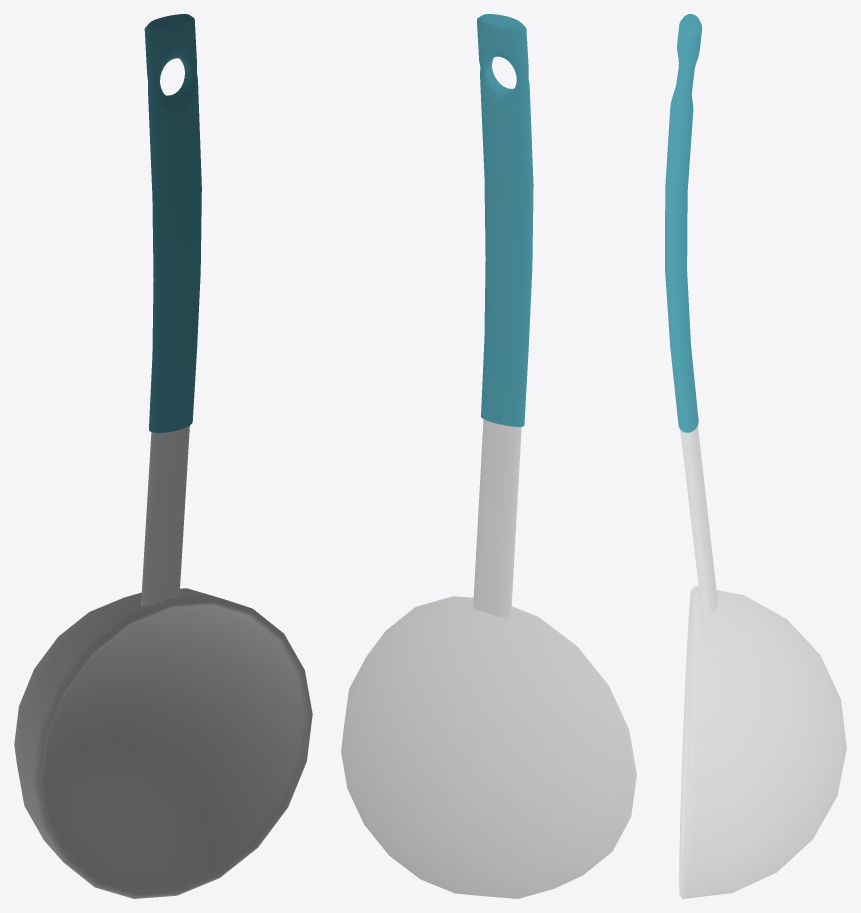
File: Ladel3_25aa24de.obj
3 views of the same model, side by side, from view 1: azimuth 30°, elevation 25°; view 2: azimuth 150°, elevation 25°; view 3: azimuth 270°, elevation 25° (orthographic).
Parts seen in each view (by area): view 1: Ladel3_25aa24de; view 2: Ladel3_25aa24de; view 3: Ladel3_25aa24de.
Boxes of the visible parts, <box> form: Ladel3_25aa24de: <box>14,14,312,898</box>; Ladel3_25aa24de: <box>341,14,636,898</box>; Ladel3_25aa24de: <box>665,14,846,898</box>.
Bounding box in the file's own units: 0.1226 × 0.3686 × 0.0705.
